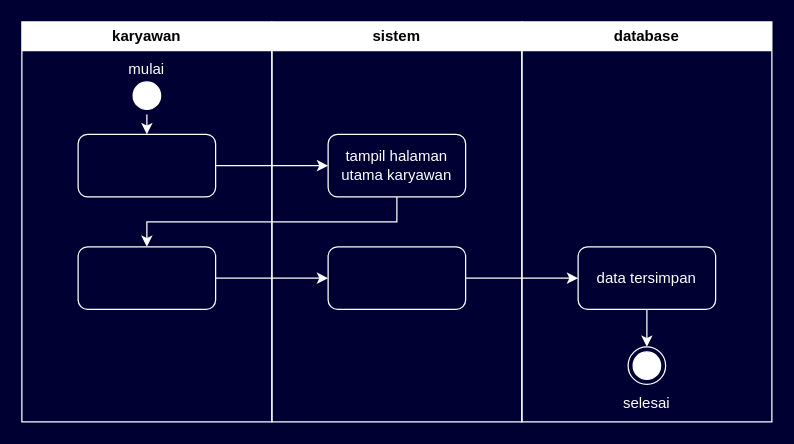
Some shapes in this 794 by 444 pixel diagram are drawn without their labels. Here are the shapes that lost their labels. From the top down, the centre of each, then its label:
the point at 146,165: login
the point at 146,277: klik tombol "absen"
the point at 396,277: tampil popup sudah melakukan absen
